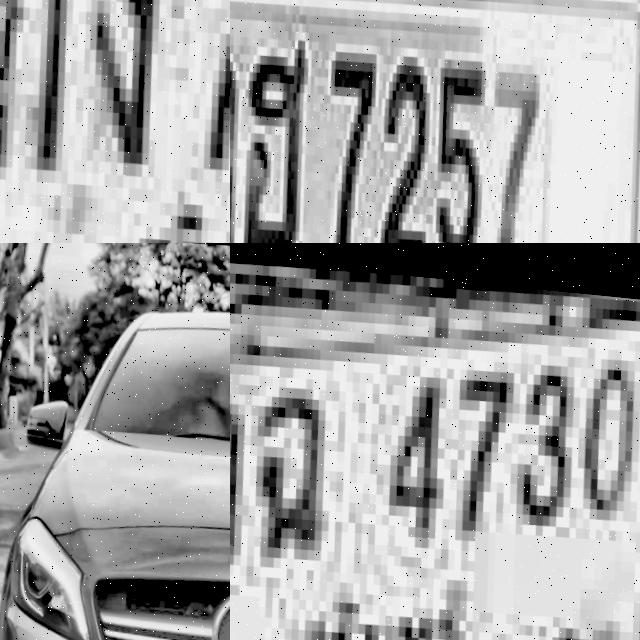license-plate: (230, 262, 640, 640), (230, 0, 640, 243), (0, 0, 230, 243)
